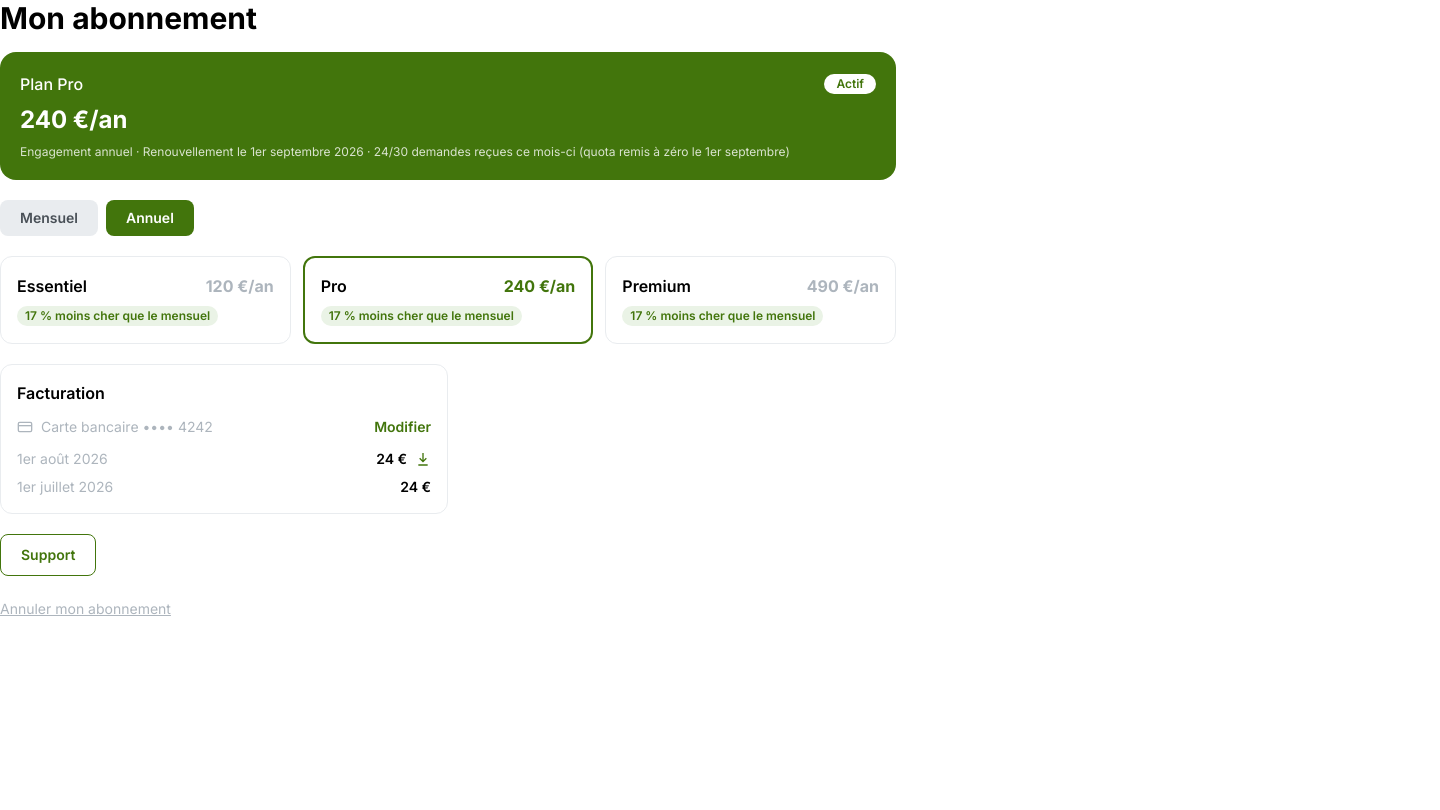
Test: SubscriptionComponent › sous engagement annuel, monter vers une offre annuelle reste immédiat et l'engagement continue
Click the button "Premium 490 €/an 17 % moins cher que le mensuel".
click(657, 286)  # box [605, 256, 896, 344]
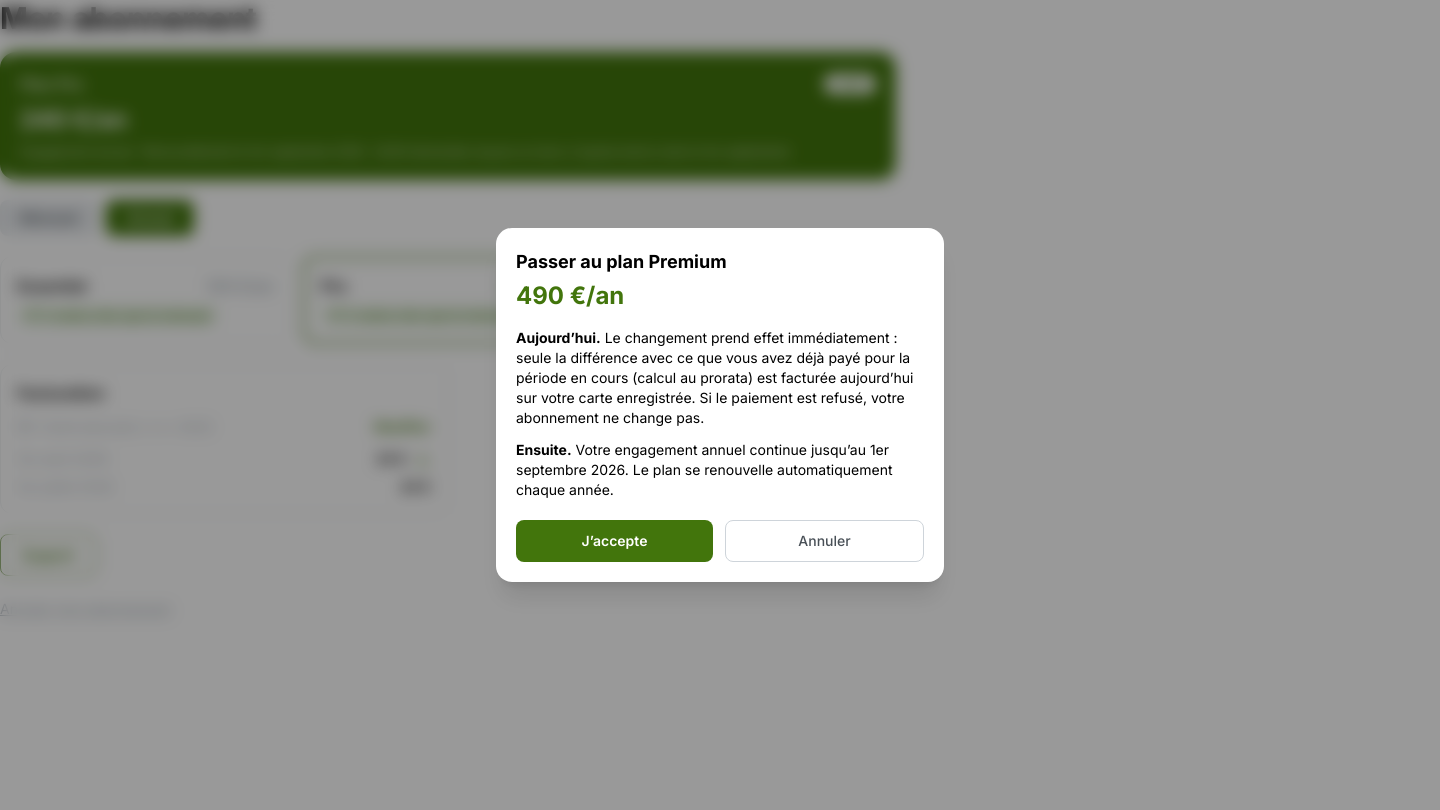
Check: the dialog shows "Le changement prend effet immédiatement", box [516, 329, 913, 426]
Check: the dialog shows "Votre engagement annuel continue jusqu’au 1er septembre 2026.", box [516, 441, 889, 478]
Check: the dialog shows "Le plan se renouvelle automatiquement chaque année.", box [516, 461, 892, 498]
